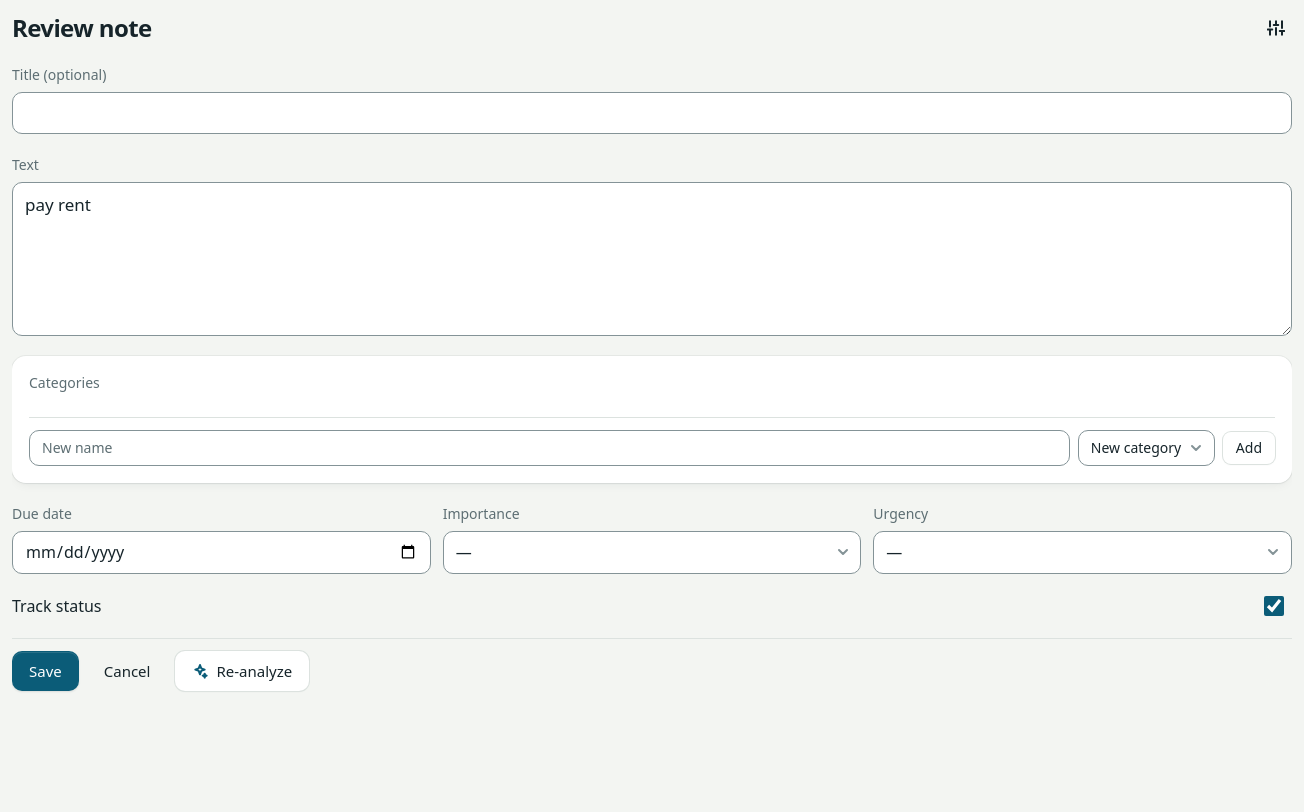
NoteEditor title › re-analyze fills an empty title
The width and height of the screenshot is (1304, 812).
Click the button "Re-analyze" at {"x": 242, "y": 671}, box [175,651,309,691]
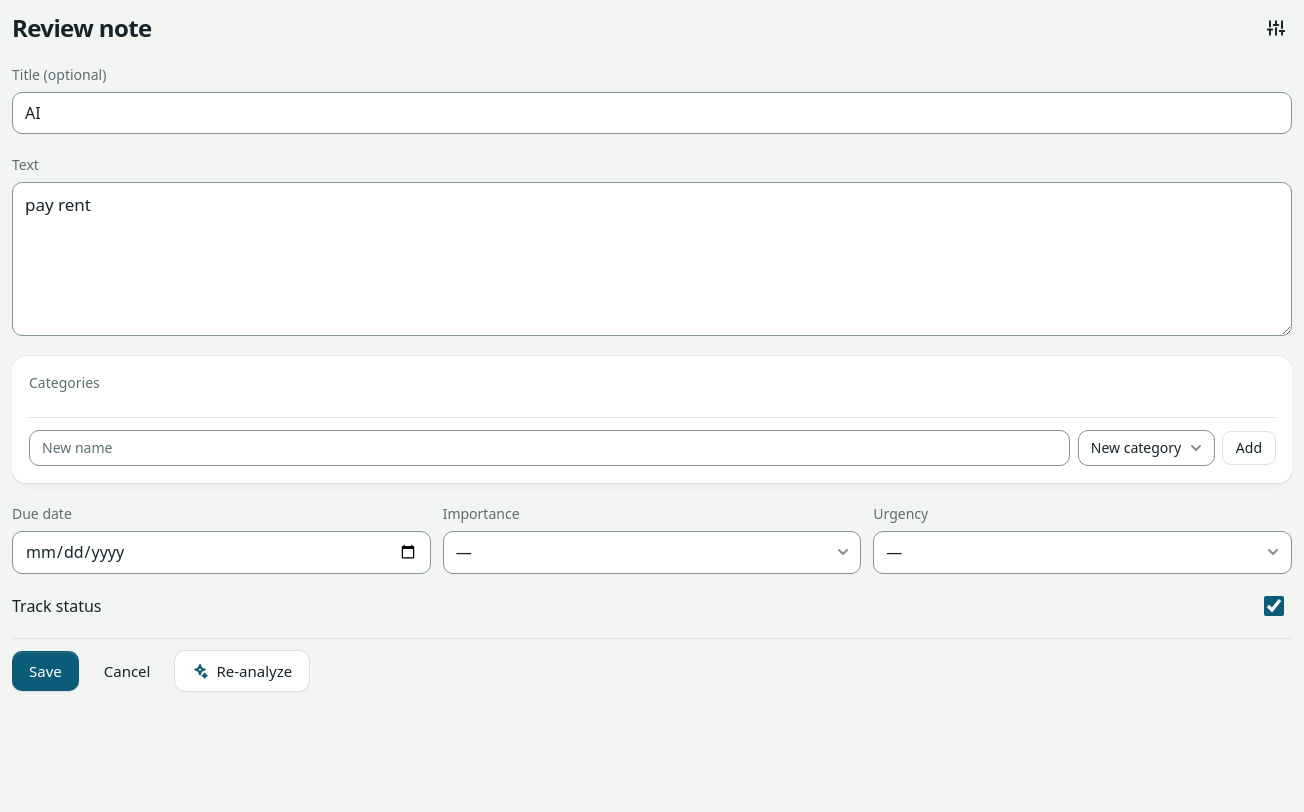
Now the field labelled "Title (optional)" holds "AI", box [12,92,1292,134]
